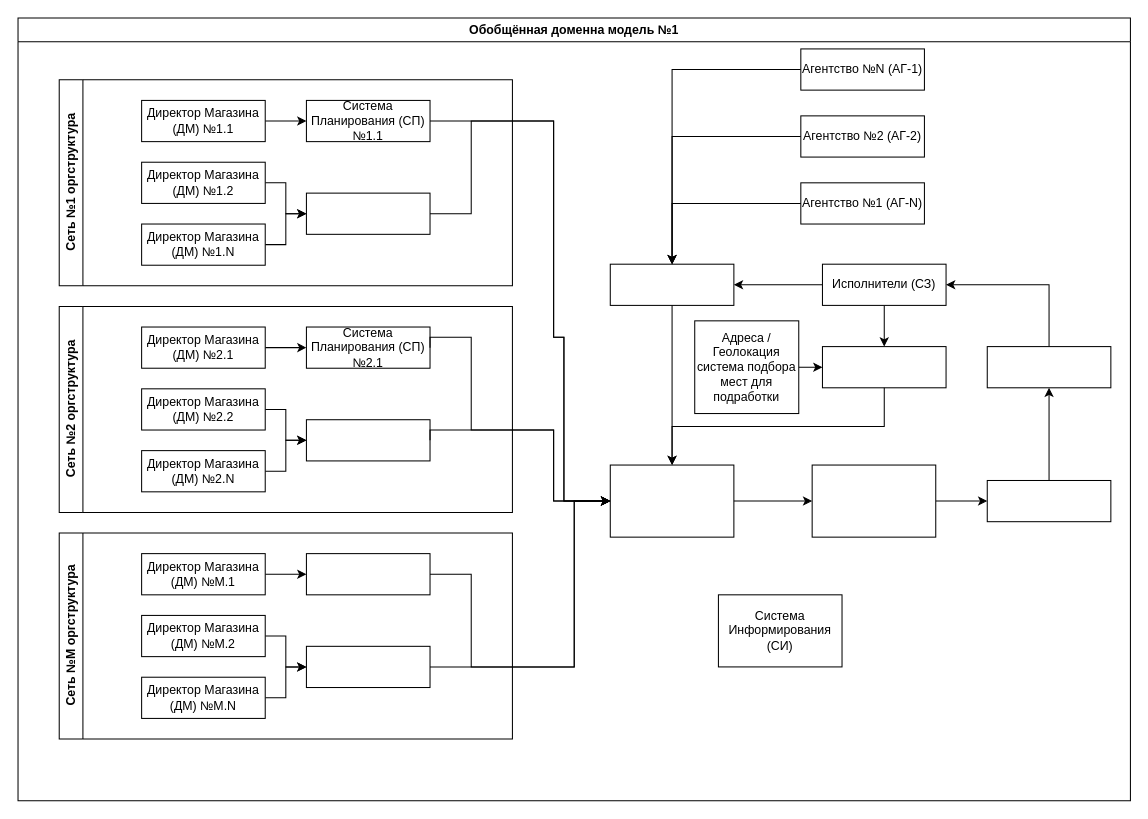
Image size: 1148x819. Some labels were removed from this diagram. Here are the shapes that lost their labels. From the top down, the centre of each, then its label:
At point (367, 213): "Система Планирования (СП) №1.2".
At point (671, 284): "Портал Аутсорсинга (ПА)".
At point (883, 367): "Мобильное приложение (МП) СЗ".
At point (1048, 367): "Оплата смен".
At point (367, 440): "Система Планирования (СП) №2.2".
At point (671, 500): "Банк смен (заявки на смены)".
At point (873, 500): "Банк табелей (факт отработки смен)".
At point (1048, 500): "Бухгалтерия".
At point (367, 574): "Система Планирования (СП) №M.1".
At point (367, 666): "Система Планирования (СП) №M.2".
